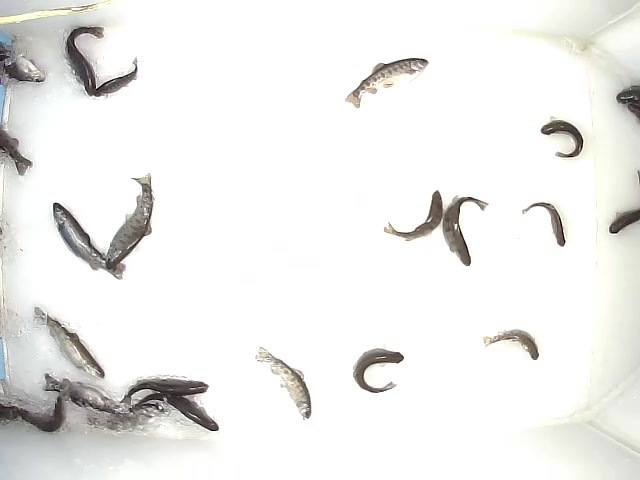fish: (48, 198, 127, 281), (32, 304, 103, 380), (104, 170, 154, 268), (343, 56, 429, 111), (254, 347, 318, 419), (125, 391, 221, 432), (441, 194, 493, 267), (41, 373, 130, 415), (379, 186, 443, 243), (65, 21, 104, 104), (118, 374, 210, 409), (351, 344, 404, 394), (521, 199, 567, 248), (95, 55, 142, 98), (481, 328, 543, 360), (539, 117, 584, 158)
